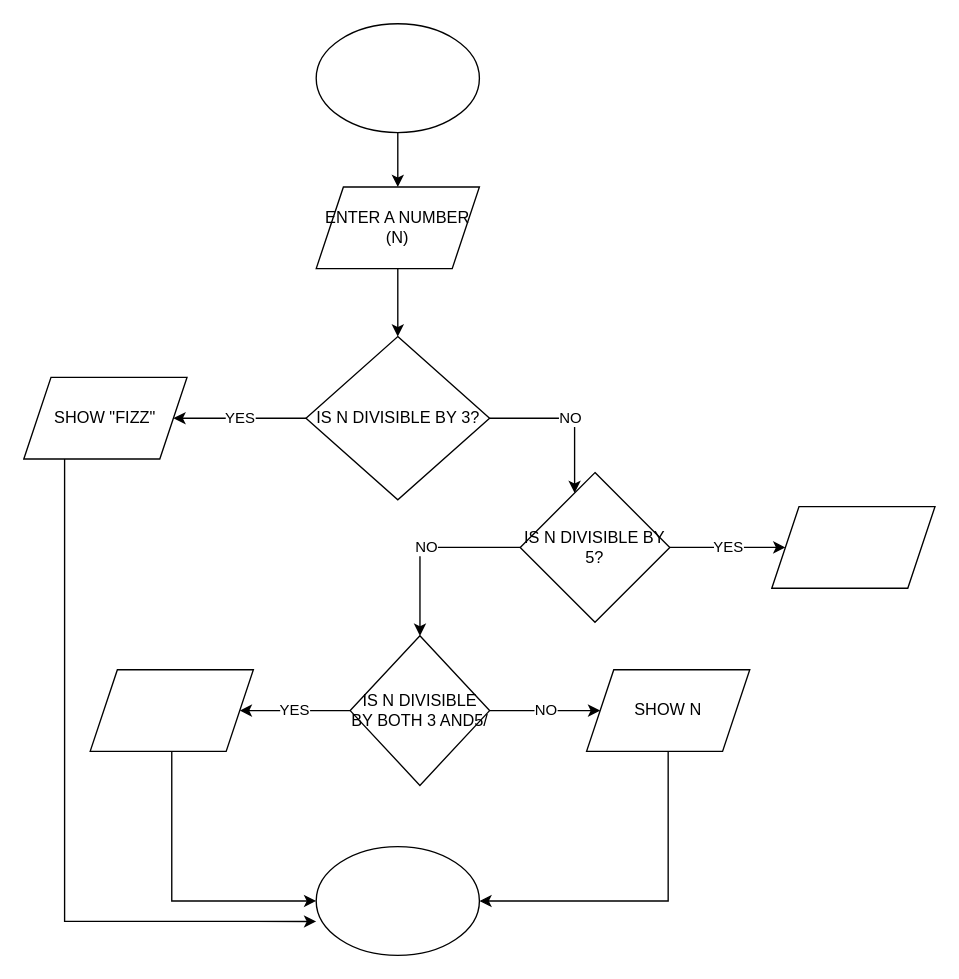
Some shapes in this 959 by 979 pixel diagram are drawn without their labels. The centre of each missing label's shape, as x and y in pixels:
SHOW "BUZZ": the point at 852,546
SHOW "FIZZBUZZ": the point at 171,709
START: the point at 397,77
